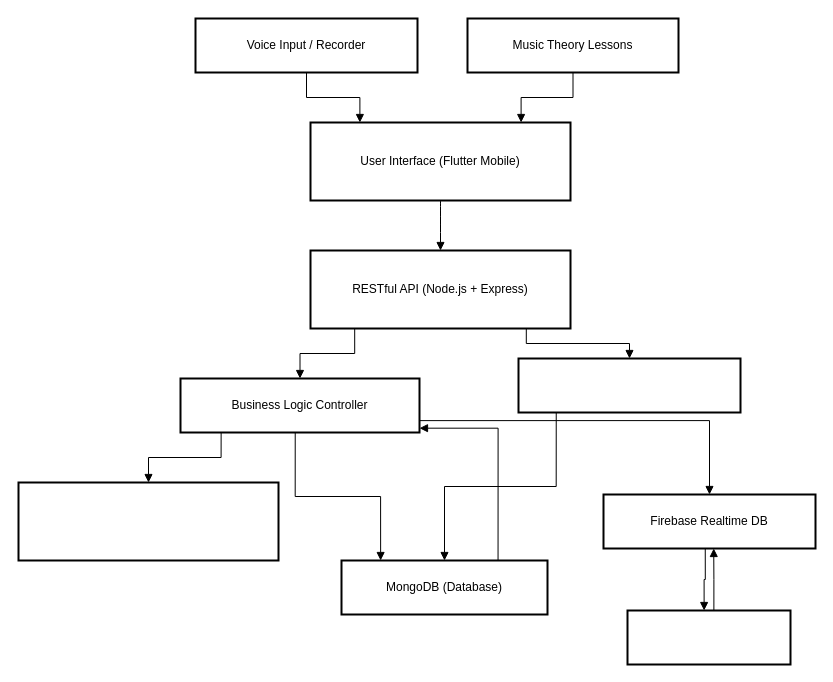
Image size: 833x682. Some labels were removed from this diagram. The shapes that lost their labels are listed below. From the top down, each one's box as (x1, y1, x2, y2) in pixels, then its label:
(517, 357, 741, 413): Authentication Module
(17, 481, 279, 561): AI Music Generator (OpenAI / TensorFlow)
(626, 609, 791, 665): Chat Interface
